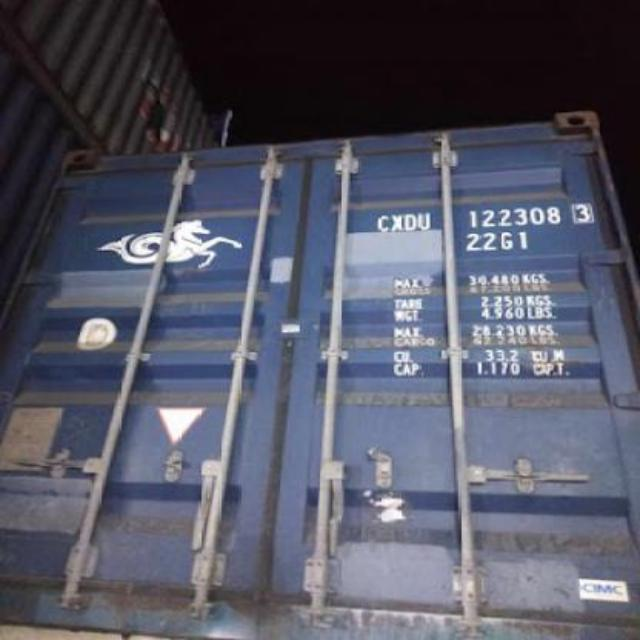0: (530, 201, 544, 231)
1: (462, 200, 478, 230)
2: (480, 202, 496, 228), (498, 202, 512, 230)
3: (570, 200, 594, 227), (512, 201, 528, 227)
8: (544, 198, 562, 228)
C: (376, 208, 392, 234)
D: (404, 206, 418, 242)
U: (416, 207, 434, 237)
X: (391, 206, 404, 238)
